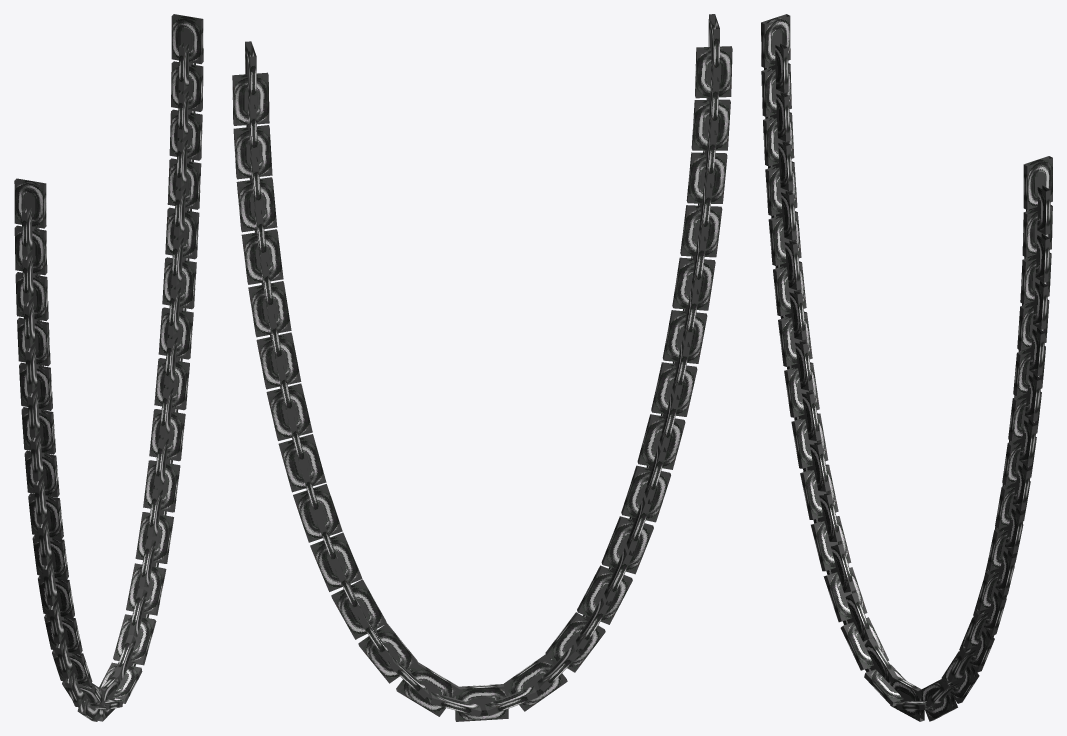
The model's file is SWORDLIGHT20_INST_CHAINA_LOD1_03.fbx.
3 views of the same model, side by side, from view 1: azimuth 30°, elevation 25°; view 2: azimuth 150°, elevation 25°; view 3: azimuth 270°, elevation 25° (orthographic). The views are drawn at different scales.
Visible parts, largest first — view 1: SWORDLIGHT20_INST_CHAINA_LOD1_03; view 2: SWORDLIGHT20_INST_CHAINA_LOD1_03; view 3: SWORDLIGHT20_INST_CHAINA_LOD1_03.
Part boxes in pixels (x1=…): SWORDLIGHT20_INST_CHAINA_LOD1_03: x1=14, y1=14, x2=203, y2=721; SWORDLIGHT20_INST_CHAINA_LOD1_03: x1=232, y1=14, x2=732, y2=721; SWORDLIGHT20_INST_CHAINA_LOD1_03: x1=761, y1=14, x2=1052, y2=721.
Bounding box in the file's own units: 11229 × 21114 × 8968.
Materials: 1 (1 with a texture image).
